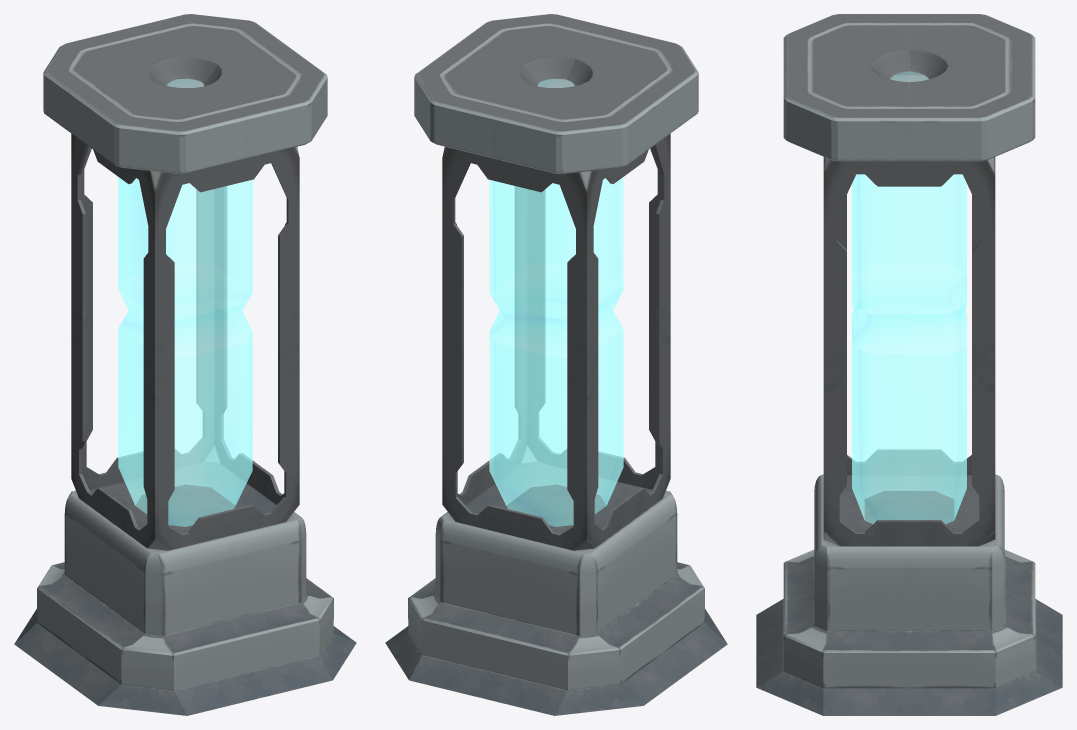
Rendered from SMQ.fbx.
3 views of the same model, side by side, from view 1: azimuth 30°, elevation 25°; view 2: azimuth 150°, elevation 25°; view 3: azimuth 270°, elevation 25° (orthographic). The views are drawn at different scales.
Visible parts, largest first — view 1: SMQ; view 2: SMQ; view 3: SMQ.
Boxes of the visible parts, box(x1,y1,x2,y2) form: SMQ: box(14, 14, 356, 715); SMQ: box(385, 14, 727, 715); SMQ: box(756, 14, 1062, 715).
Size of what is drawn, in the model's own units: 1.22 by 2.57 by 1.22.
